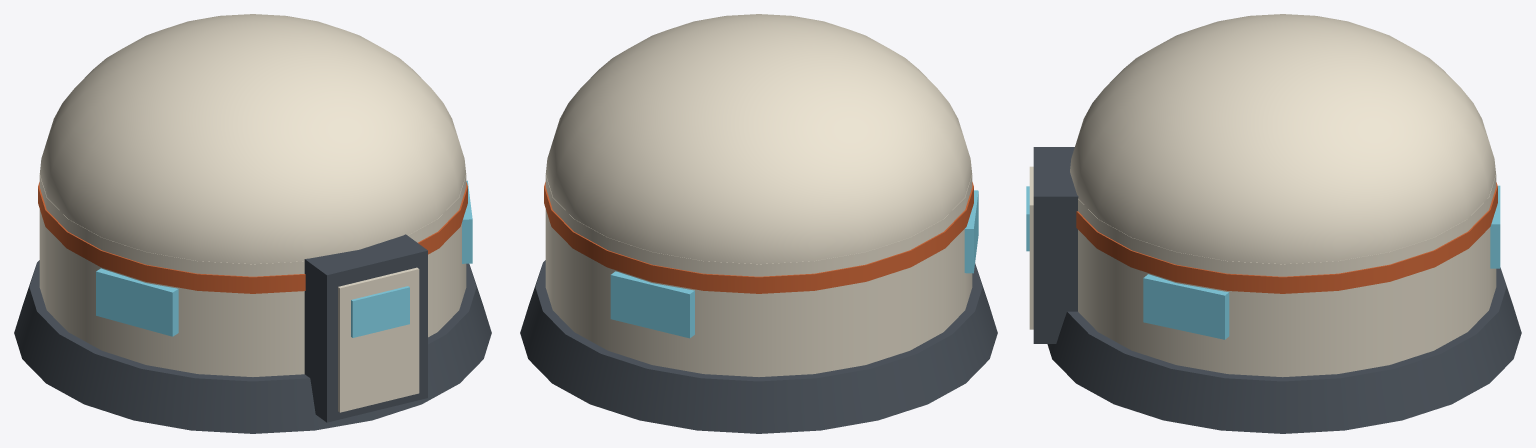
The model's file is habitat.glb.
3 views of the same model, side by side, from view 1: azimuth 30°, elevation 25°; view 2: azimuth 150°, elevation 25°; view 3: azimuth 270°, elevation 25° (orthographic).
Visible parts, largest first — view 1: Dome, Habitat, Foundation, Airlock, Door, OrangeBand, Window (×2), DoorWindow; view 2: Dome, Habitat, Foundation, OrangeBand, Window (×2); view 3: Dome, Habitat, Foundation, Airlock, OrangeBand, Window (×2), Door.
Part boxes in pixels (left/top/right/bottom): Dome: left=39, top=14, right=466, bottom=264; Habitat: left=39, top=174, right=466, bottom=376; Foundation: left=14, top=260, right=491, bottom=433; Airlock: left=304, top=234, right=427, bottom=422; Door: left=338, top=267, right=419, bottom=412; OrangeBand: left=38, top=182, right=467, bottom=293; Window (×2): left=96, top=180, right=472, bottom=336; DoorWindow: left=351, top=286, right=409, bottom=337; Dome: left=545, top=14, right=972, bottom=264; Habitat: left=545, top=174, right=972, bottom=376; Foundation: left=520, top=260, right=997, bottom=433; OrangeBand: left=544, top=182, right=973, bottom=293; Window (×2): left=610, top=190, right=978, bottom=338; Dome: left=1070, top=14, right=1495, bottom=264; Habitat: left=1078, top=173, right=1496, bottom=377; Foundation: left=1047, top=267, right=1521, bottom=433; Airlock: left=1033, top=147, right=1078, bottom=343; OrangeBand: left=1076, top=182, right=1497, bottom=293; Window (×2): left=1143, top=185, right=1500, bottom=339; Door: left=1029, top=166, right=1033, bottom=329.
Size of the model in its own units: 4.7 by 3.17 by 4.87.
